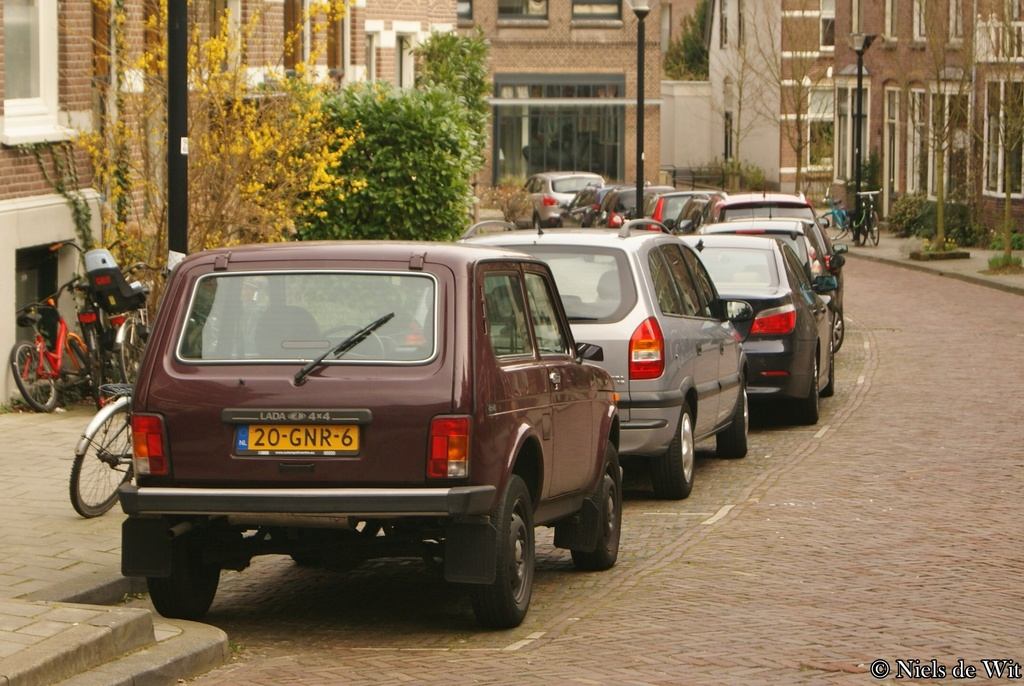Car: (119, 171, 848, 627)
